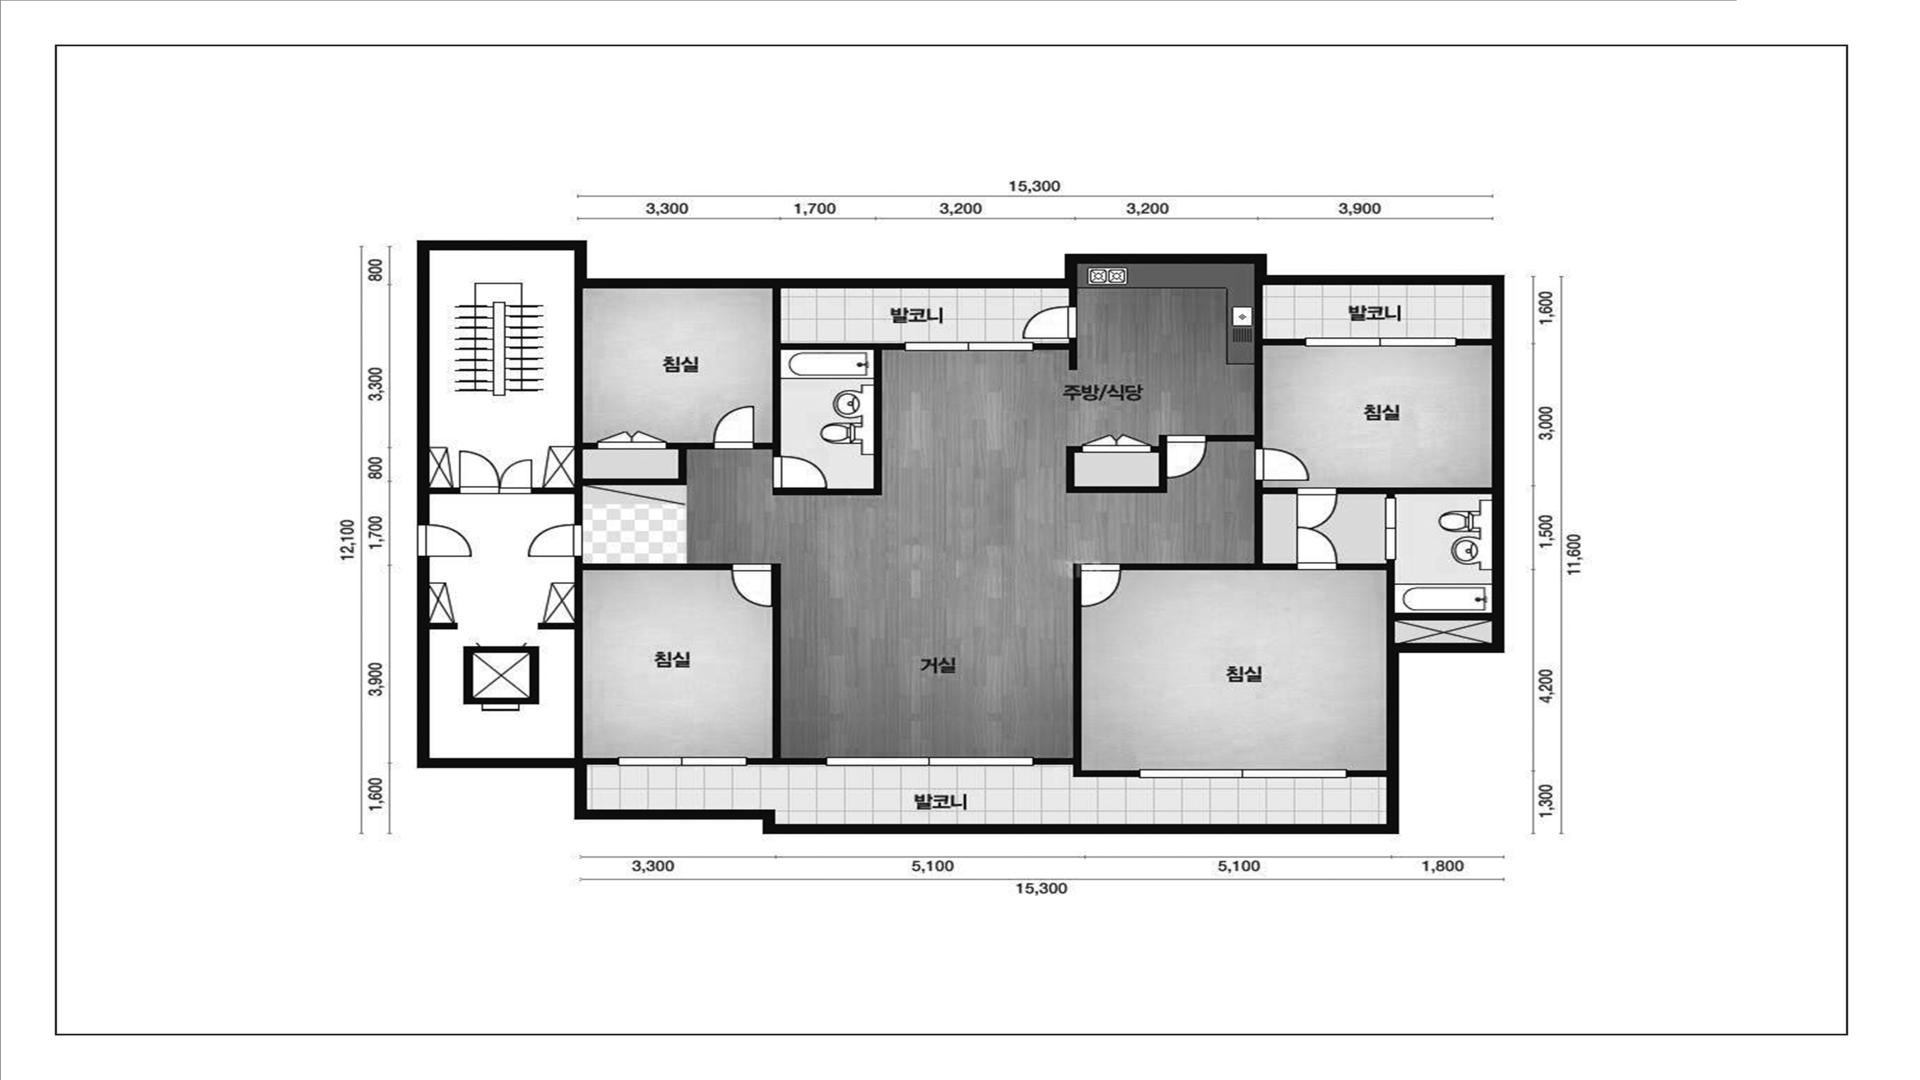background: (0, 0, 1920, 1080)
door: (459, 450, 533, 495), (712, 405, 756, 450), (526, 524, 583, 558), (1081, 563, 1122, 608), (732, 563, 773, 608), (417, 524, 472, 556), (773, 455, 828, 488), (1022, 306, 1077, 339), (1254, 448, 1309, 481), (1167, 435, 1207, 479), (1296, 488, 1337, 529), (1296, 529, 1337, 570), (596, 430, 667, 450), (1081, 434, 1153, 452)
wall: (417, 240, 1505, 835), (533, 289, 713, 524), (538, 558, 732, 758), (756, 287, 905, 496), (1034, 563, 1139, 777), (1207, 284, 1304, 448), (1121, 480, 1296, 570), (748, 563, 825, 765), (1337, 560, 1493, 644), (1065, 435, 1167, 493), (1337, 488, 1493, 497), (1034, 339, 1077, 371), (1348, 770, 1387, 777), (1456, 339, 1493, 345), (587, 758, 617, 765), (430, 622, 458, 629), (429, 488, 459, 493), (1069, 287, 1077, 306)
window: (1139, 769, 1348, 778), (825, 757, 1034, 766), (1304, 338, 1456, 347), (617, 757, 748, 766), (905, 342, 1034, 351), (1385, 497, 1396, 560)
